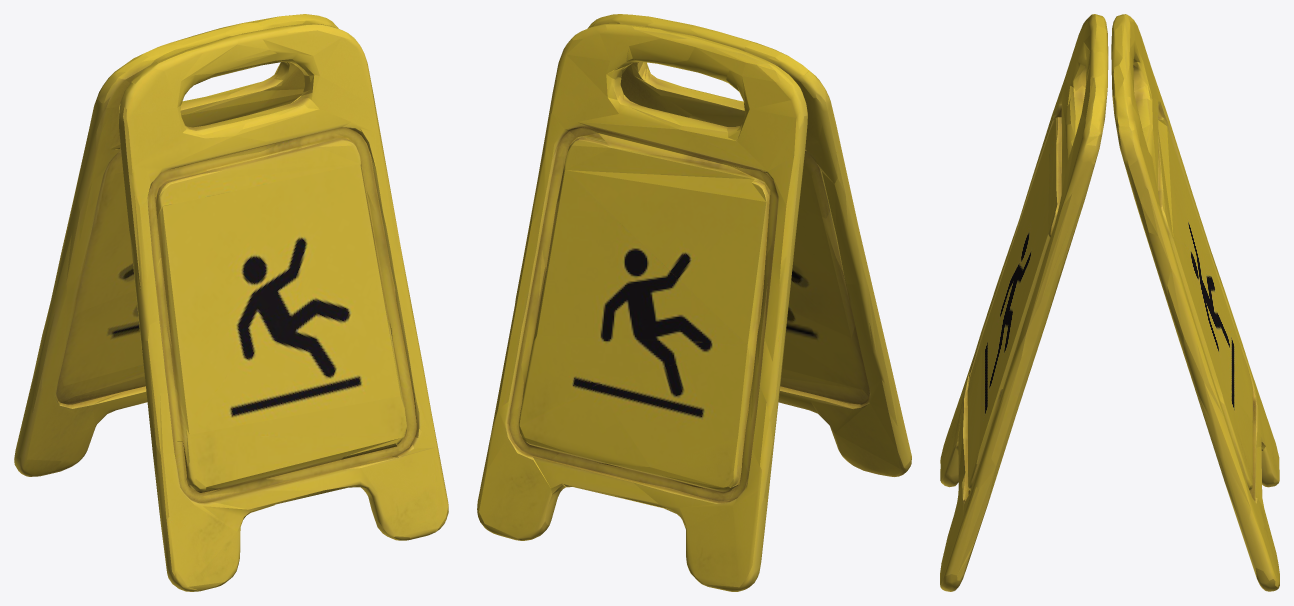
The model's file is cartello_pavimento_bagnato.glb.
The picture shows the model from 3 angles, left to right: view 1: azimuth 30°, elevation 25°; view 2: azimuth 150°, elevation 25°; view 3: azimuth 270°, elevation 25°; orthographic projection. The views are drawn at different scales.
Parts seen in each view (by area): view 1: Mesh_0; view 2: Mesh_0; view 3: Mesh_0.
Part boxes in pixels (x1,y1,x2,y2): Mesh_0: (14, 14, 448, 591); Mesh_0: (477, 14, 911, 591); Mesh_0: (940, 14, 1279, 591).
Bounding box in the file's own units: 1.17 × 1.9 × 1.21.
Materials: 1 (1 with a texture image).
